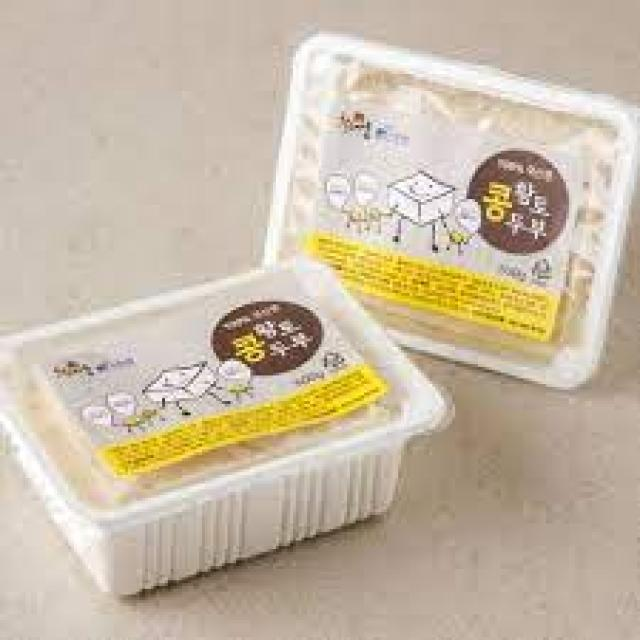tofu: (20, 286, 433, 585)
